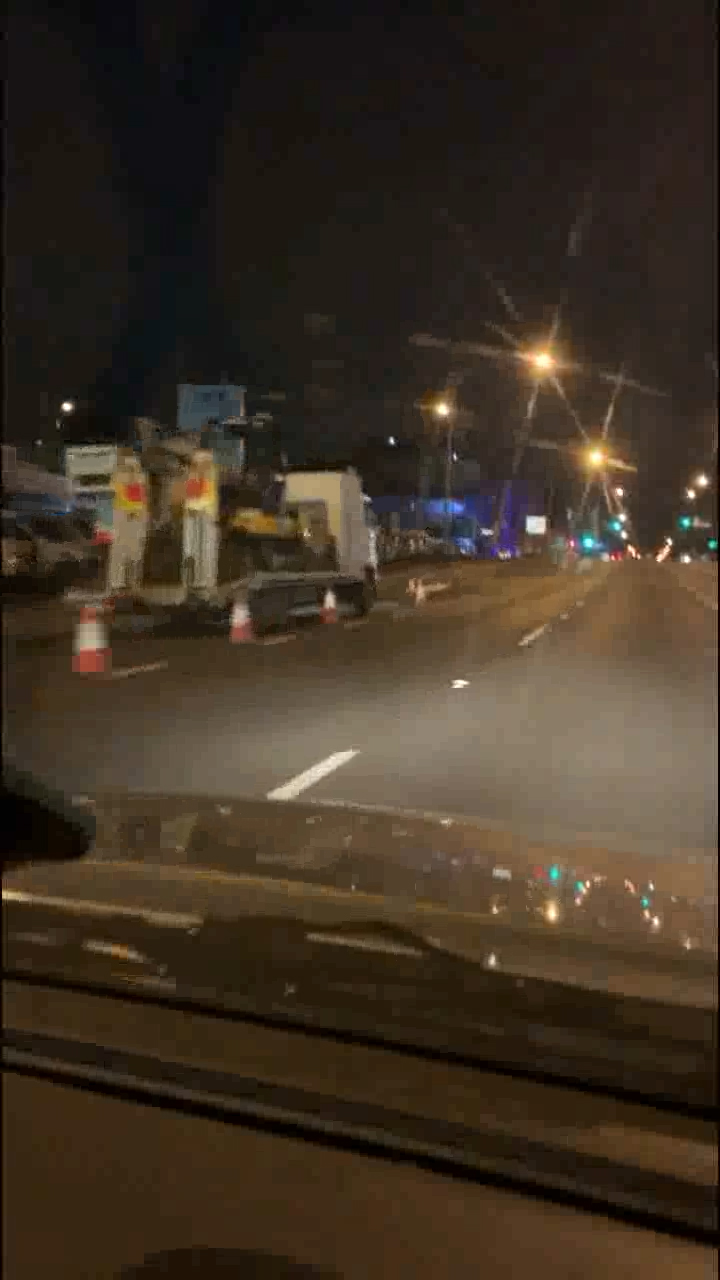road cone: (77, 599, 112, 668)
truck: (87, 420, 398, 608)
